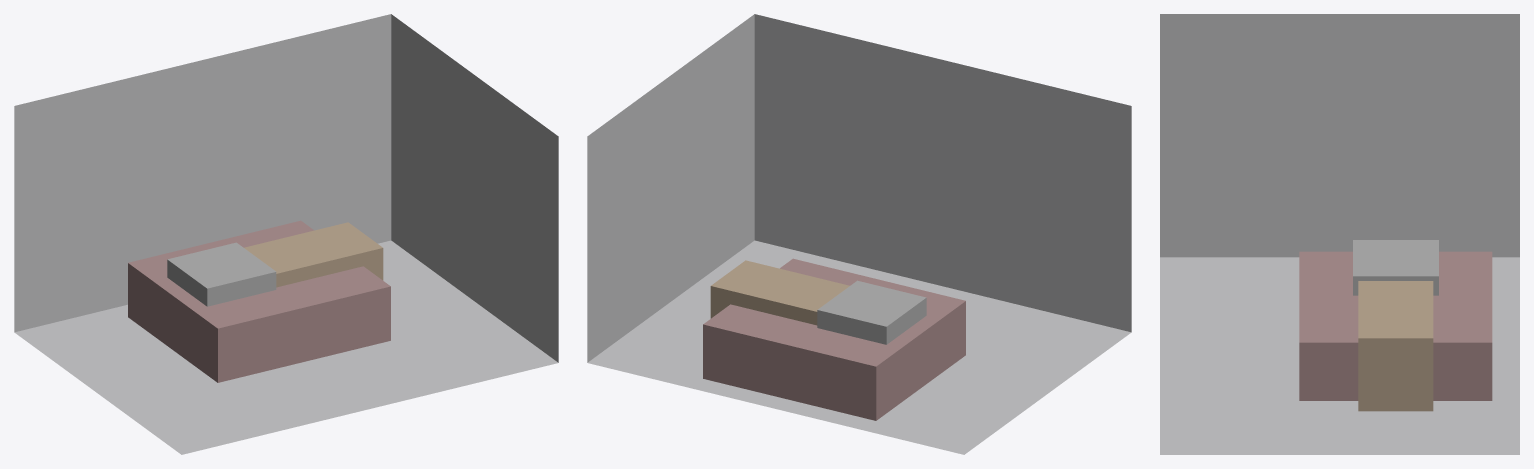
Rendered from current_layout.glb.
3 renders of one model, left to right at view 1: azimuth 30°, elevation 25°; view 2: azimuth 150°, elevation 25°; view 3: azimuth 270°, elevation 25°, orthographic. The views are drawn at different scales.
Parts seen in each view (by area): view 1: room, bed, desk, dustbin; view 2: room, bed, desk, dustbin; view 3: room, bed, desk, dustbin.
Boxes of the visible parts, x1,y1,x2,y2 form: room: (14, 14, 558, 454); bed: (128, 220, 390, 382); desk: (244, 222, 383, 287); dustbin: (167, 242, 276, 306); room: (587, 14, 1131, 454); bed: (703, 258, 965, 420); desk: (710, 260, 849, 325); dustbin: (817, 280, 926, 344); room: (1160, 14, 1519, 454); bed: (1299, 251, 1492, 400); desk: (1358, 281, 1433, 411); dustbin: (1353, 240, 1438, 295).
Size of the model in its own units: 4.36 by 2.5 by 3.35.
